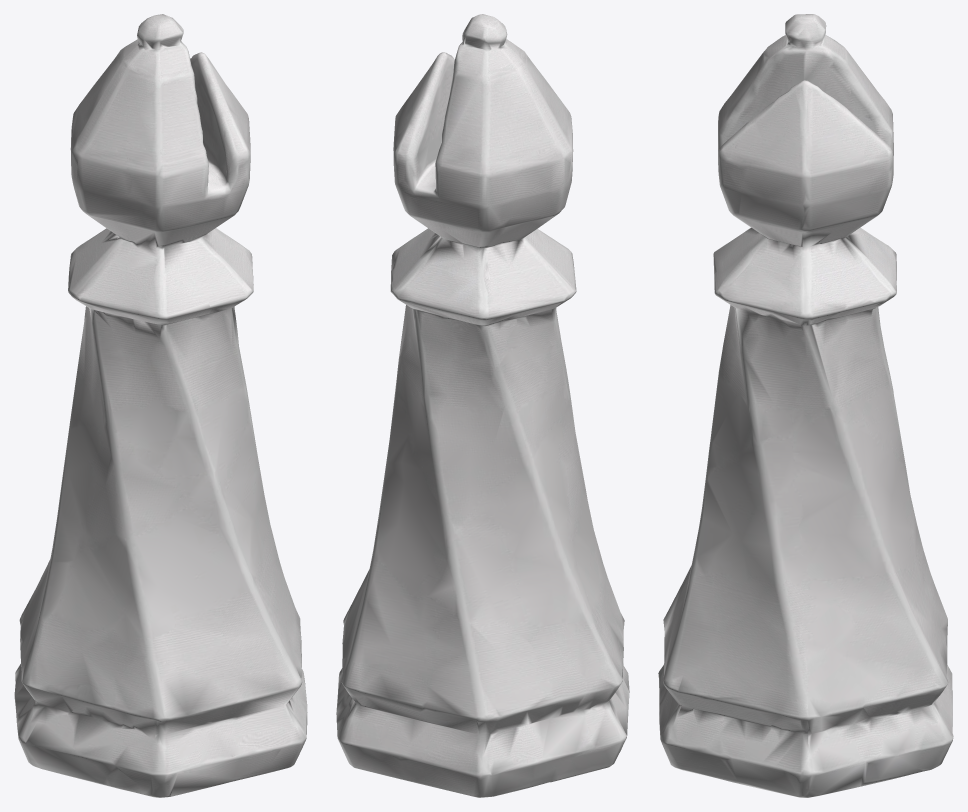
File: bishop-white.glb
3 renders of one model, left to right at view 1: azimuth 30°, elevation 25°; view 2: azimuth 150°, elevation 25°; view 3: azimuth 270°, elevation 25°, orthographic.
Size of the model in its own units: 0.5347 by 1.3 by 0.4833.
Materials: 1 (1 with a texture image).
